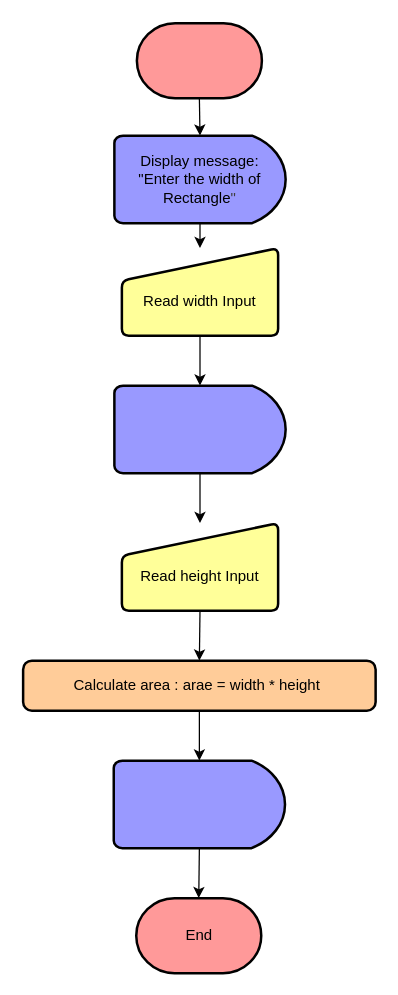
Some shapes in this 398 by 995 pixel diagram are drawn without their labels. Each missing label, with the centre of its shape:
Display message: "Enter the height of Rectangle ": point 199,429
Display message: "The area of Rectangle is ", area: point 199,804
Start: point 198,60
